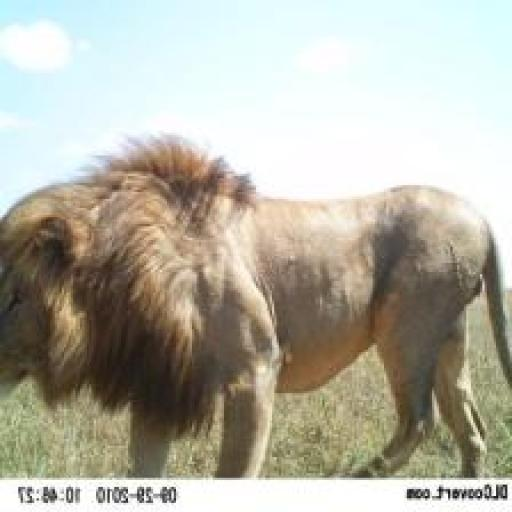lion: (2, 114, 508, 484)
